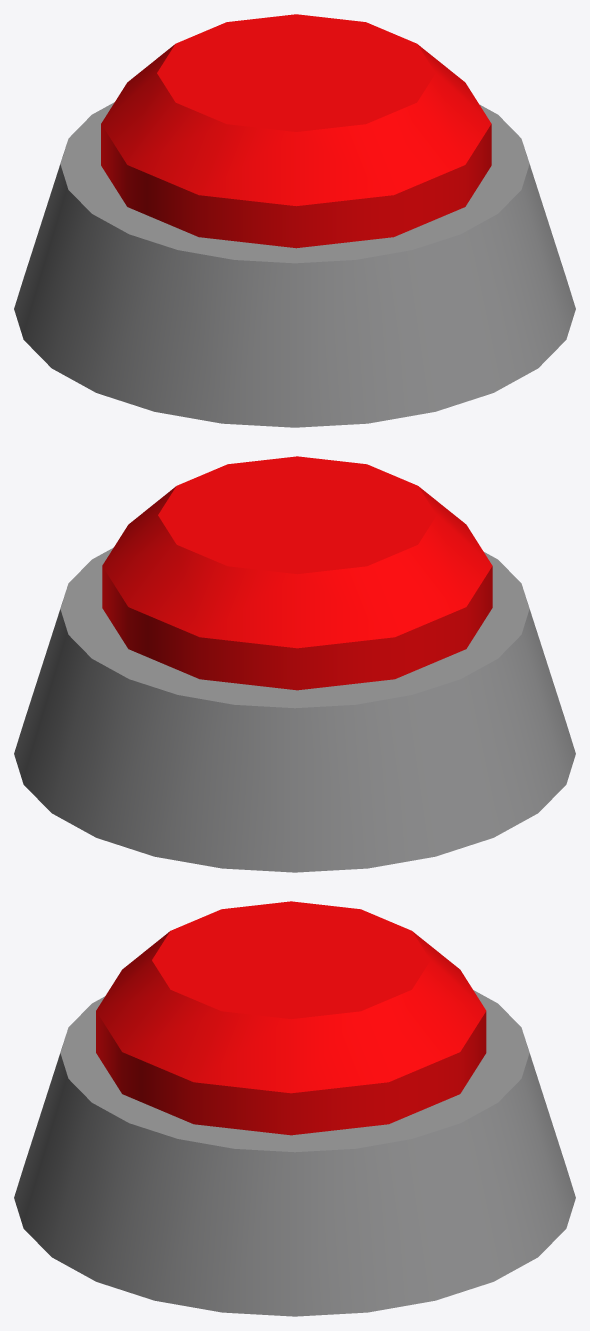
File: Button.fbx
3 renders of one model, top to bottom at view 1: azimuth 30°, elevation 25°; view 2: azimuth 150°, elevation 25°; view 3: azimuth 270°, elevation 25°, orthographic.
Visible parts, largest first — view 1: Button 01; view 2: Button 01; view 3: Button 01.
Boxes of the visible parts, x1=… form: Button 01: x1=14, y1=14, x2=575, y2=427; Button 01: x1=14, y1=456, x2=575, y2=872; Button 01: x1=14, y1=901, x2=575, y2=1316.
Size of the model in its own units: 33.04 by 33.04 by 15.4.
